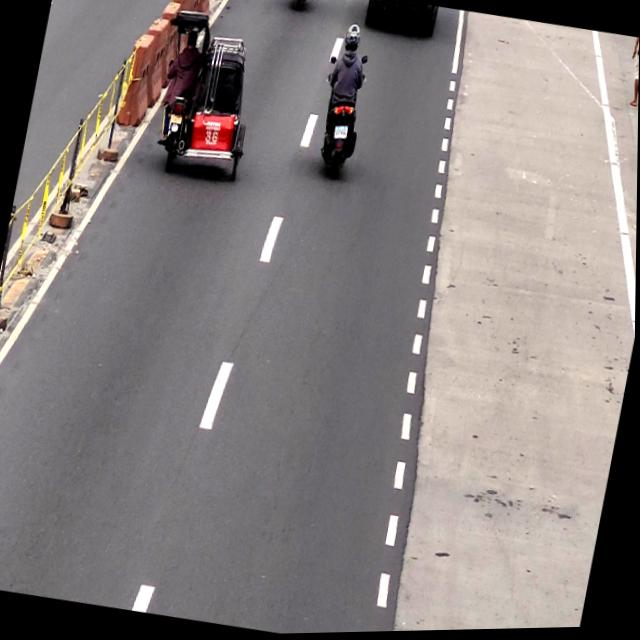License-Plate: (331, 125, 349, 140), (167, 113, 184, 126)
Motorcycle: (308, 18, 375, 183)
Tricycle: (144, 4, 268, 182)
